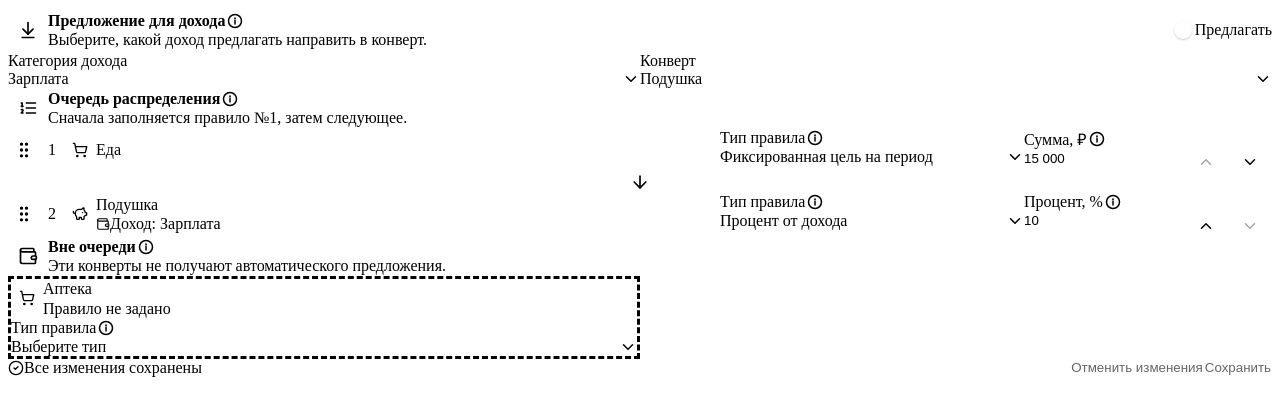
Test: FundingRulesEditor › статус нижней панели: сохранено / есть изменения
Expected: the element with test id "rules-save-status" reads "Все изменения сохранены", x1=24 y1=359 x2=202 y2=376
Click the button with test id "rule-down-a" at {"x": 1250, "y": 162}, box x1=1228 y1=152 x2=1272 y2=172
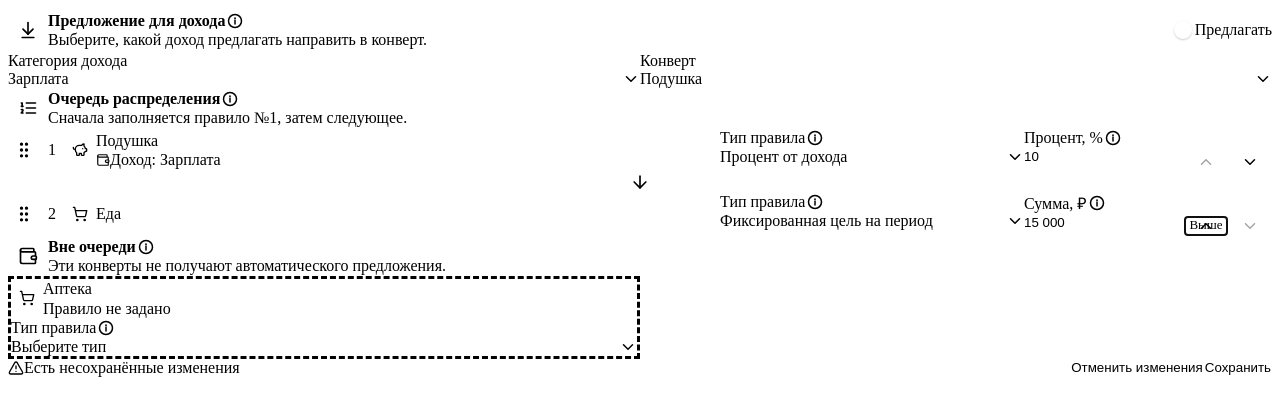
Now the element with test id "rules-save-status" reads "Есть несохранённые изменения", box x1=24 y1=359 x2=240 y2=376
